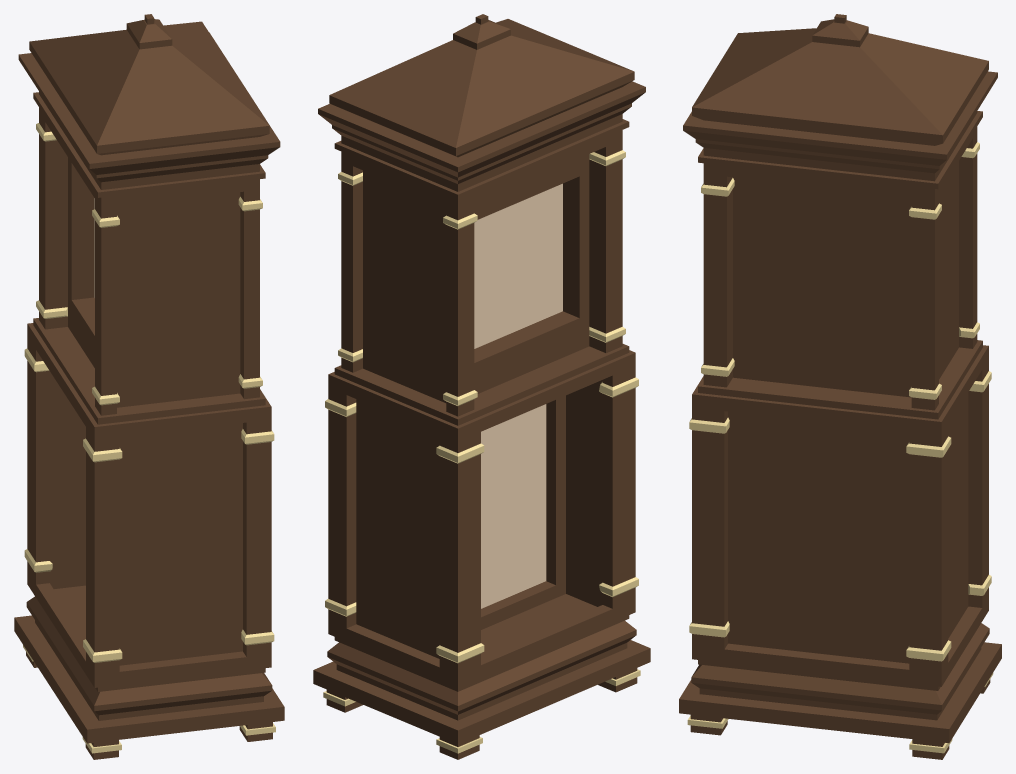
File: clock_base.fbx
3 views of the same model, side by side, from view 1: azimuth 30°, elevation 25°; view 2: azimuth 150°, elevation 25°; view 3: azimuth 270°, elevation 25° (orthographic). The views are drawn at different scales.
Visible parts, largest first — view 1: Clock_base; view 2: Clock_base; view 3: Clock_base.
Boxes of the visible parts, x1,y1,x2,y2 form: Clock_base: (14,14,284,759); Clock_base: (313,14,650,759); Clock_base: (679,14,1001,759).
Bounding box in the file's own units: 4.73 × 13.27 × 5.62.
